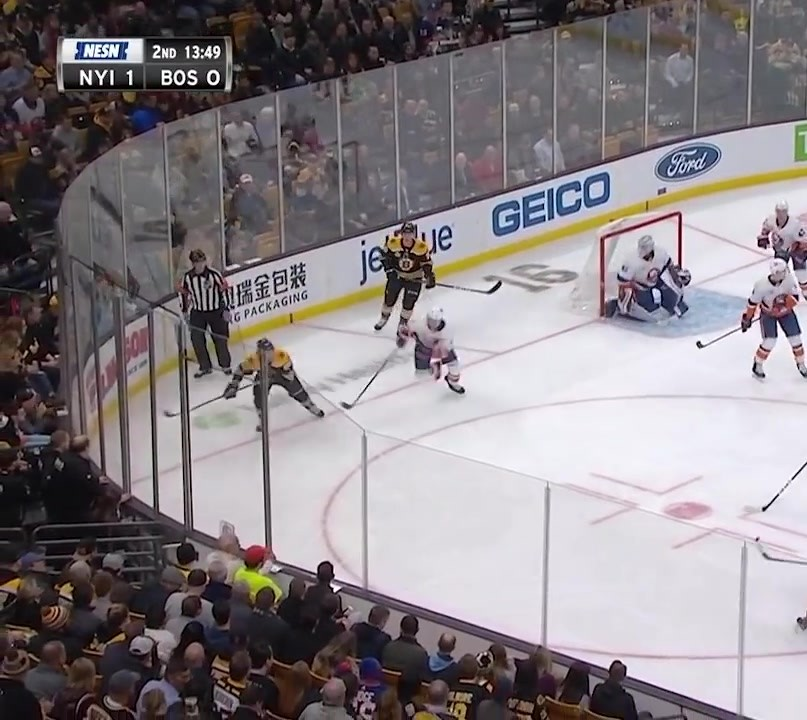Geico: (492, 170, 616, 242)
